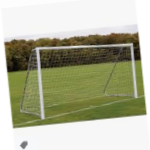goals: (20, 42, 139, 117)
